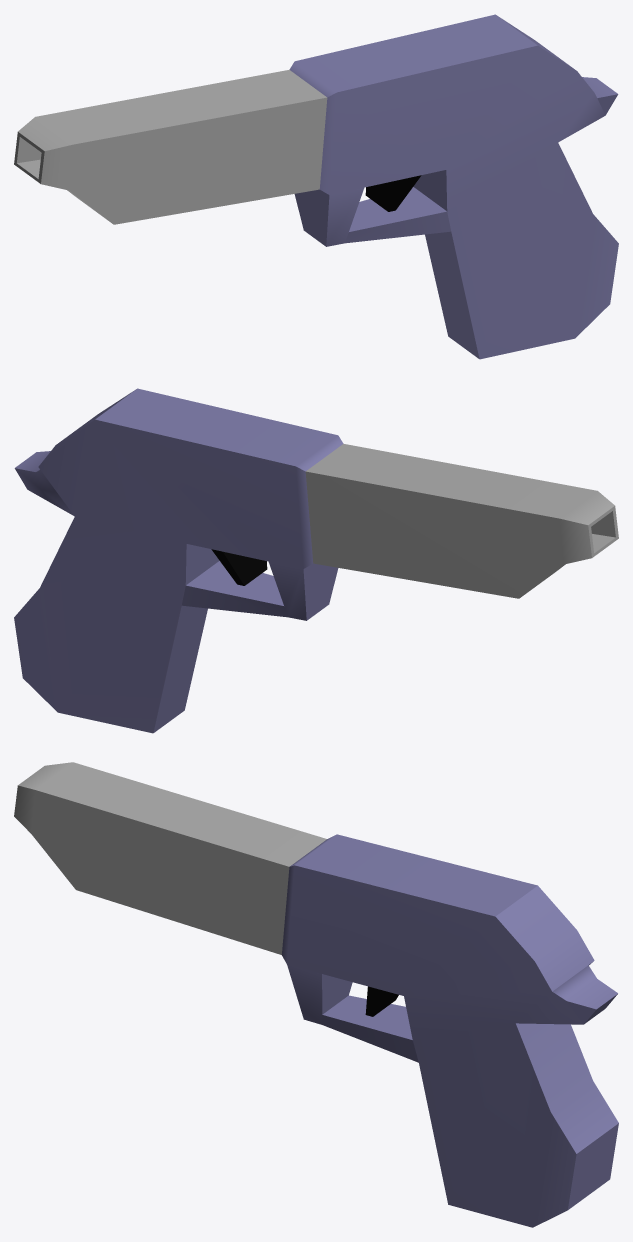
File: ShockPistol_v1.fbx
3 views of the same model, one above another, from view 1: azimuth 30°, elevation 25°; view 2: azimuth 150°, elevation 25°; view 3: azimuth 330°, elevation 25° (orthographic).
Visible parts, largest first — view 1: pCube1; view 2: pCube1; view 3: pCube1.
Part boxes in pixels (box(x1,y1,x2,y2)): pCube1: box(14, 14, 618, 359); pCube1: box(14, 388, 618, 733); pCube1: box(14, 762, 618, 1227).
Bounding box in the file's own units: 15.78 × 8.25 × 2.
